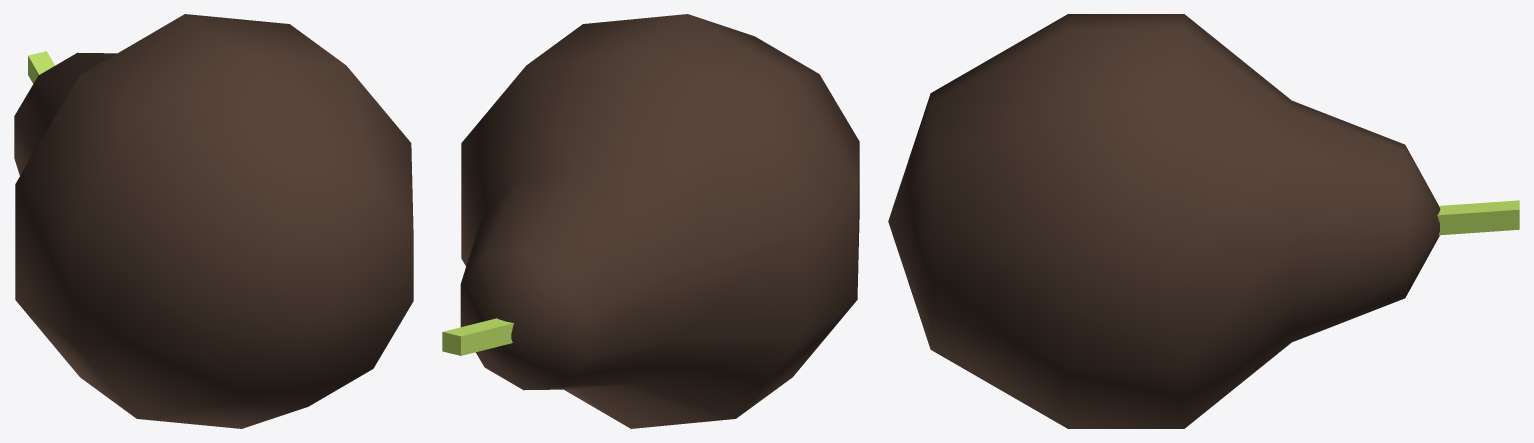
File: propsMaison_poire.fbx
3 renders of one model, left to right at view 1: azimuth 30°, elevation 25°; view 2: azimuth 150°, elevation 25°; view 3: azimuth 270°, elevation 25°, orthographic. The views are drawn at different scales.
Parts seen in each view (by area): view 1: poire; view 2: poire; view 3: poire.
Part boxes in pixels (x1,y1,x2,y2): poire: [14, 14, 413, 428]; poire: [442, 14, 859, 428]; poire: [888, 14, 1519, 428].
Size of the model in its own units: 54.16 by 56.95 by 85.08.
